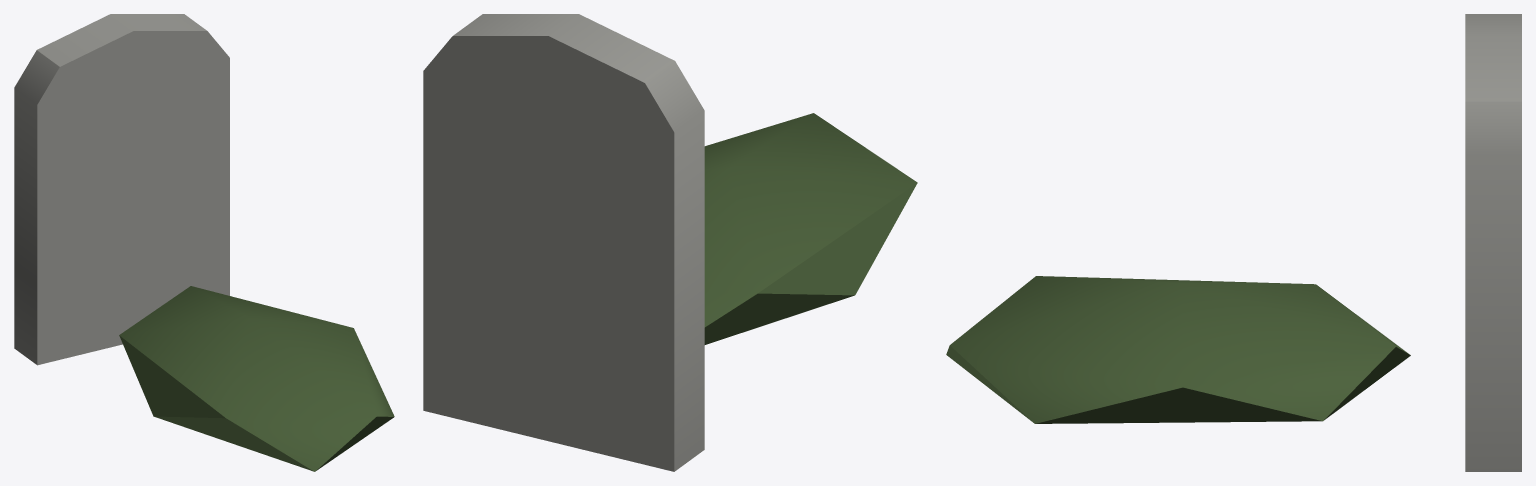
Rendered from Grave.fbx.
The picture shows the model from 3 angles, left to right: view 1: azimuth 30°, elevation 25°; view 2: azimuth 150°, elevation 25°; view 3: azimuth 270°, elevation 25°; orthographic projection. The views are drawn at different scales.
Visible parts, largest first — view 1: Grave; view 2: Grave; view 3: Grave.
Part boxes in pixels (left/top/right/bottom): Grave: left=14, top=14, right=394, bottom=471; Grave: left=423, top=14, right=917, bottom=471; Grave: left=946, top=14, right=1521, bottom=471.
Size of the model in its own units: 0.4997 by 0.74 by 1.02.
